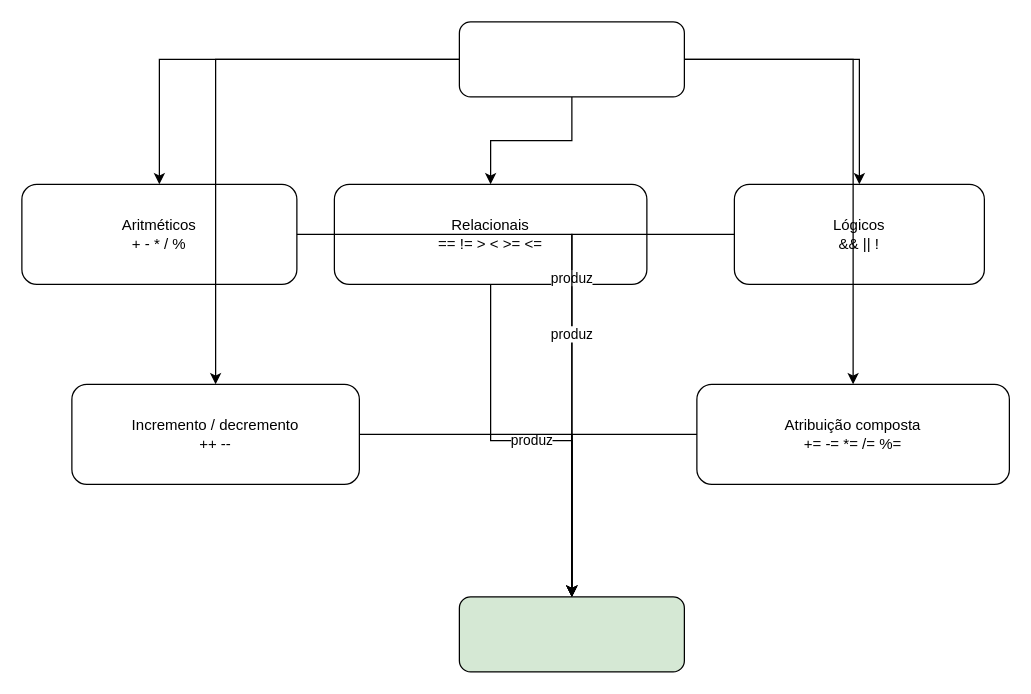
The diagram is 1031 pixels wide and 694 high, and some of its shapes have lost their labels. Each missing label, with the centre of its shape:
Expressão: the point at 571,59
Resultado: the point at 571,634
